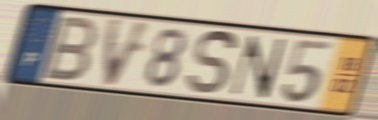5: (279, 38, 335, 105)
8: (144, 26, 190, 90)
B: (39, 14, 101, 84)
N: (227, 33, 290, 101)
S: (185, 28, 240, 98)
V: (100, 14, 156, 90)
